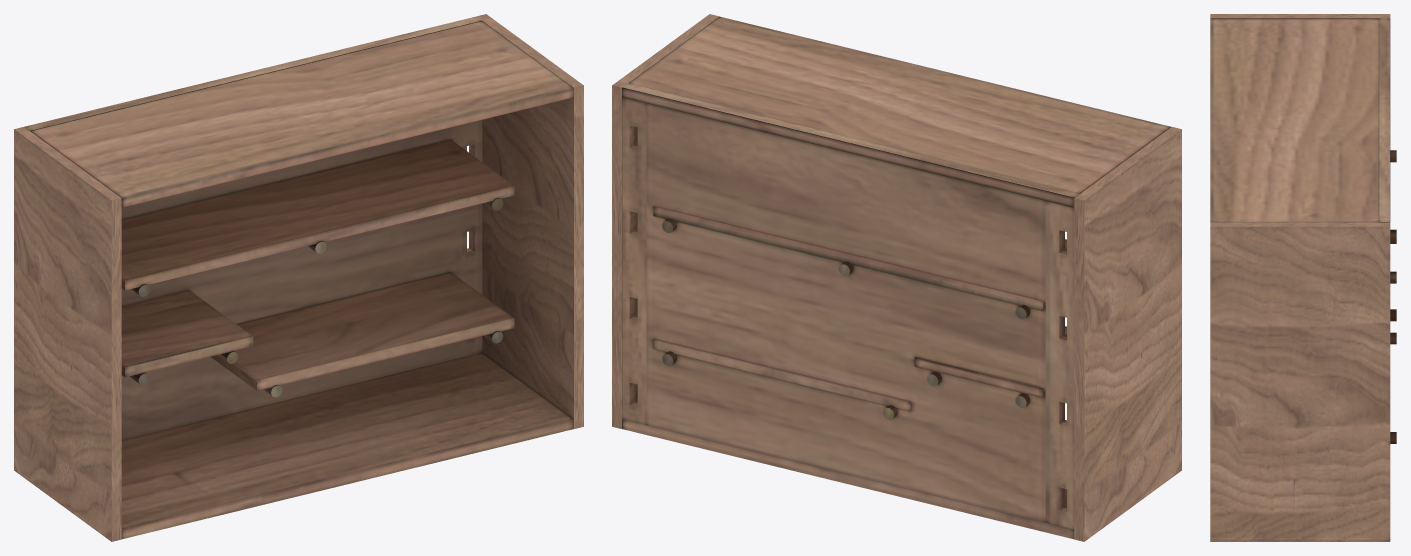
The model's file is unit_pegboard.glb.
The picture shows the model from 3 angles, left to right: view 1: azimuth 30°, elevation 25°; view 2: azimuth 150°, elevation 25°; view 3: azimuth 270°, elevation 25°; orthographic projection. The views are drawn at different scales.
Parts seen in each view (by area): view 1: m_panel_tb, m_panel_l, m_panel_b, m_panel_r, Cube.074, Cube.076, Cube.075; view 2: m_panel_b, m_panel_tb, m_panel_l, m_panel_r, Cube.074, Cube.076, Cube.075; view 3: m_panel_r, m_panel_tb, m_panel_b, m_panel_l.
Part boxes in pixels (left/top/right/bottom): m_panel_tb: left=30, top=21, right=573, bottom=539; m_panel_l: left=14, top=127, right=121, bottom=541; m_panel_b: left=24, top=16, right=482, bottom=440; m_panel_r: left=477, top=14, right=583, bottom=428; Cube.074: left=121, top=139, right=514, bottom=290; Cube.076: left=210, top=272, right=514, bottom=390; Cube.075: left=121, top=290, right=253, bottom=377; m_panel_b: left=622, top=83, right=1079, bottom=529; m_panel_tb: left=622, top=16, right=1171, bottom=539; m_panel_l: left=1074, top=127, right=1181, bottom=541; m_panel_r: left=612, top=14, right=719, bottom=428; Cube.074: left=653, top=206, right=1066, bottom=310; Cube.076: left=653, top=339, right=910, bottom=411; Cube.075: left=914, top=326, right=1066, bottom=397; m_panel_r: left=1210, top=222, right=1390, bottom=541; m_panel_tb: left=1210, top=18, right=1390, bottom=222; m_panel_b: left=1379, top=18, right=1389, bottom=222; m_panel_l: left=1210, top=14, right=1390, bottom=18.
Bounding box in the file's own units: 1 × 0.6913 × 0.3706.
1 material, 1 textured.
